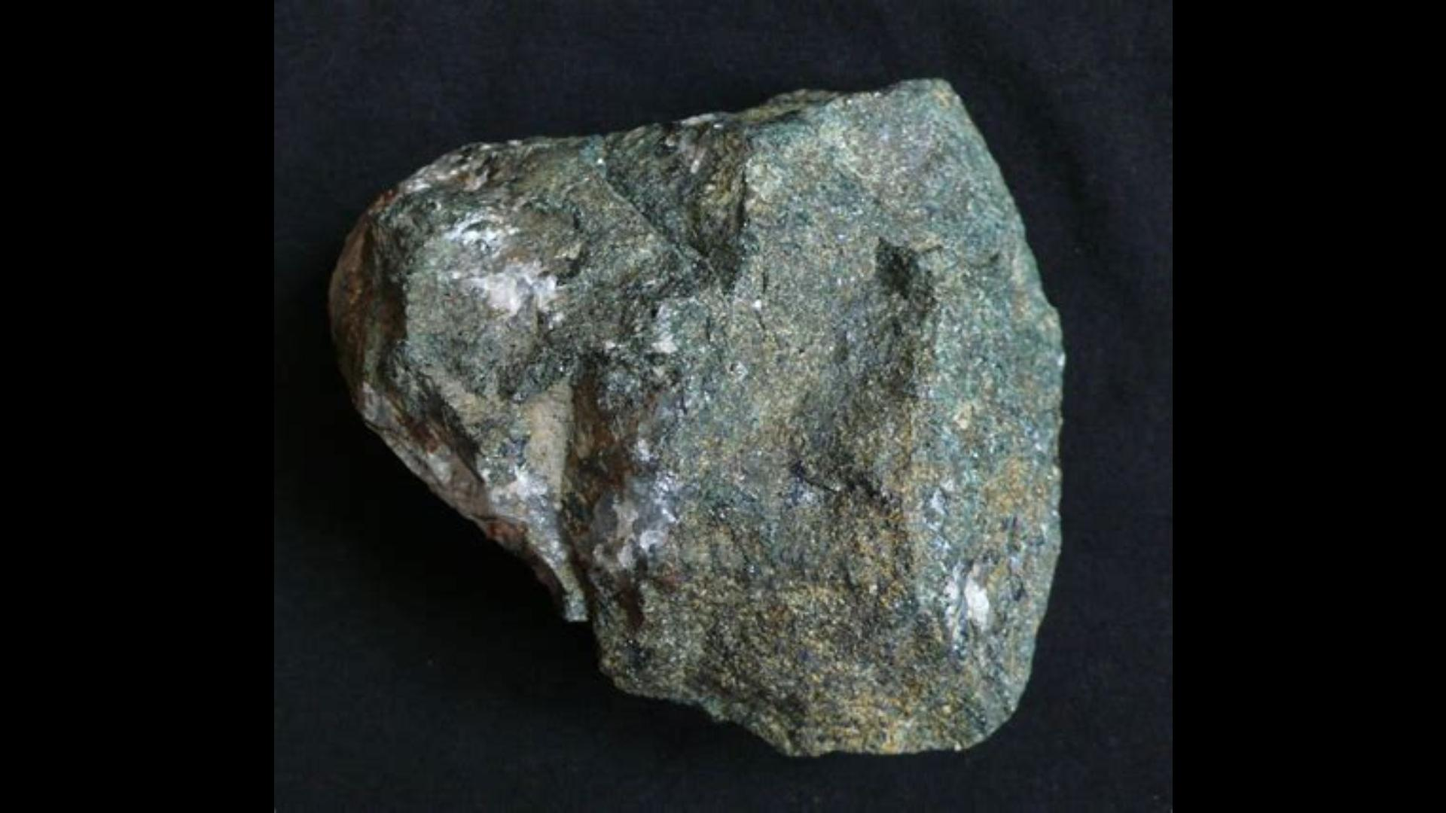rock: (330, 81, 1062, 752)
